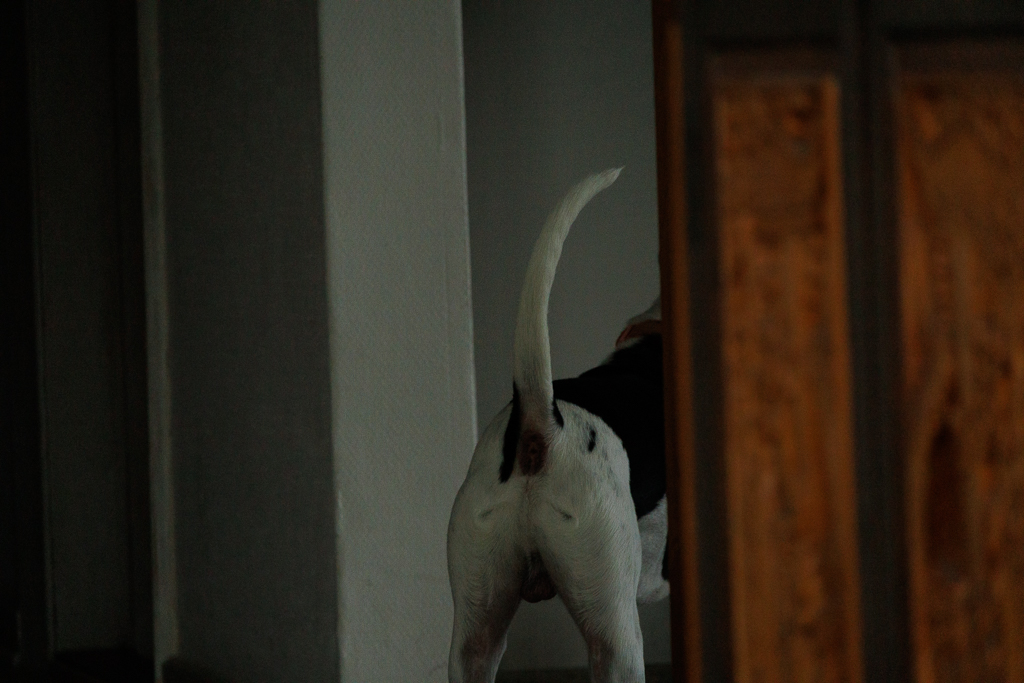Dog: (421, 143, 698, 683)
